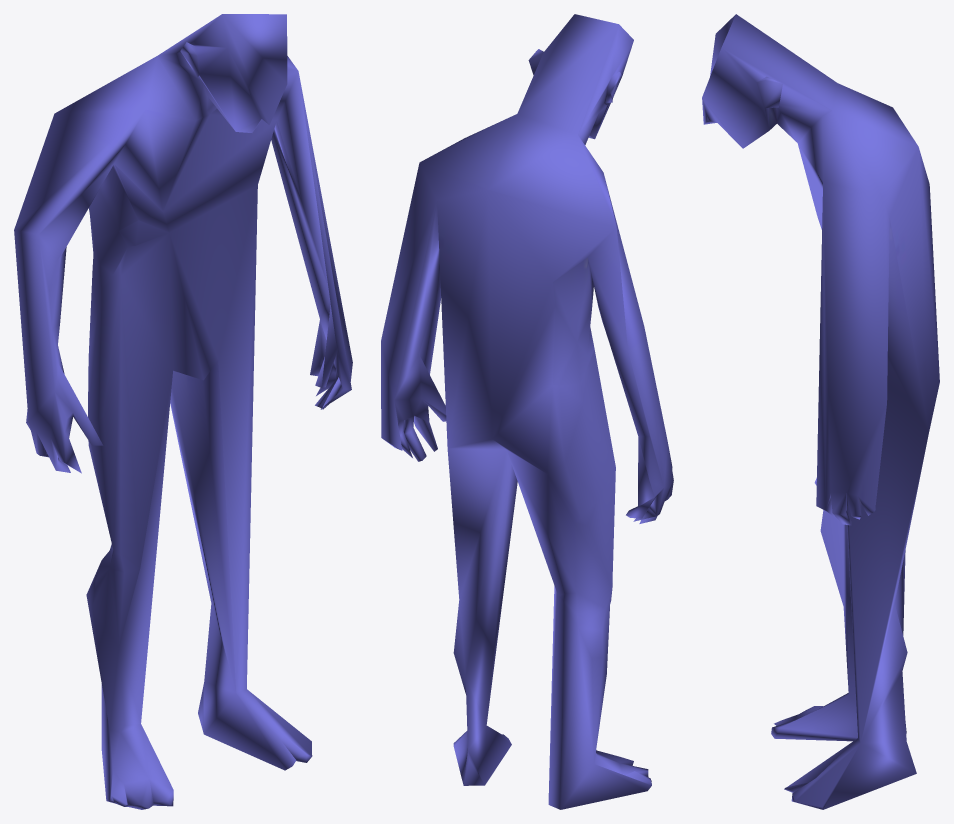
The model's file is model.progressive.glb.
3 renders of one model, left to right at view 1: azimuth 30°, elevation 25°; view 2: azimuth 150°, elevation 25°; view 3: azimuth 270°, elevation 25°, orthographic. The views are drawn at different scales.
Visible parts, largest first — view 1: material; view 2: material; view 3: material.
Part boxes in pixels (<box>): material: <box>14,14,352,809</box>; material: <box>381,14,673,809</box>; material: <box>702,14,939,809</box>.
Bounding box in the file's own units: 0.7596 × 1.87 × 0.5447.
1 material, 1 textured.
